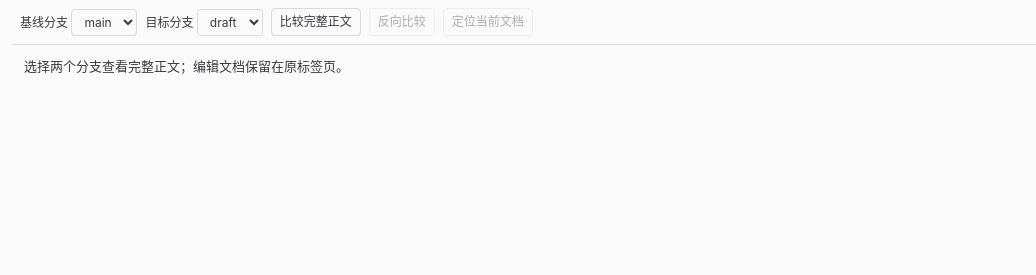
it: 切换比较文件中止正文读取，迟到正文不会覆盖新选中的文件
Click the button "比较完整正文": point(316, 22) [271,8,361,36]
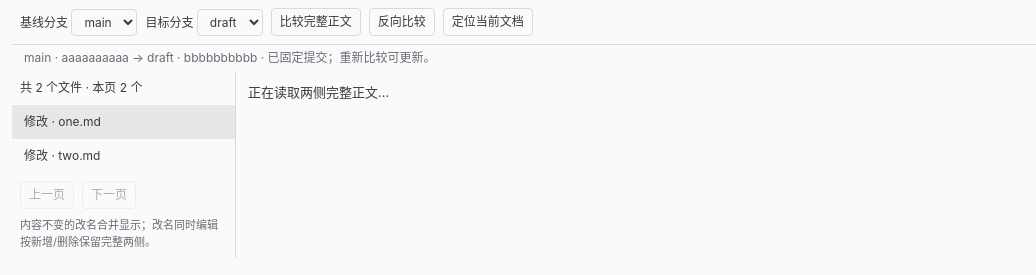
Expected: the button "修改 · two.md" is shown
Click the button "修改 · two.md": point(124, 156) [12,139,235,173]
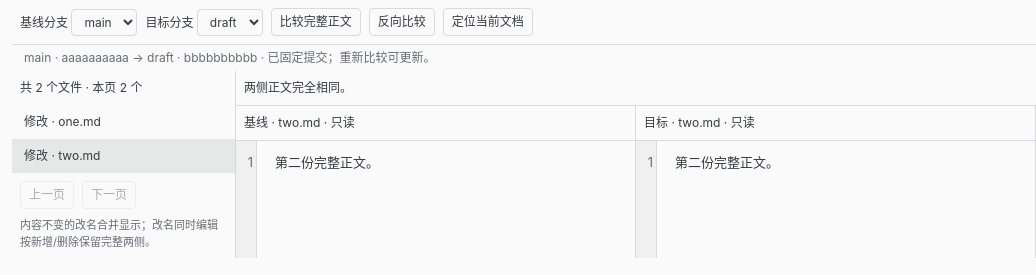
Expected: the field named "目标完整正文" reads "第二份完整正文。", [675,154,779,170]
